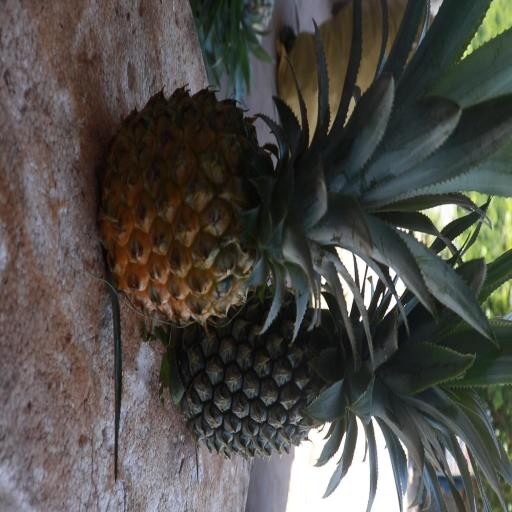Pineapple - v8 v1: (108, 93, 457, 318)
